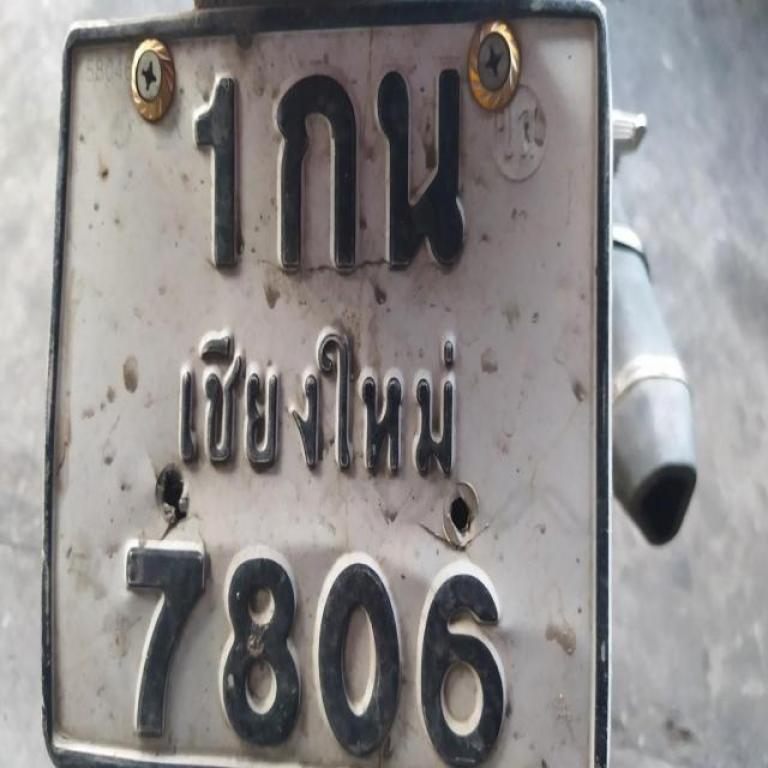license plate: (29, 8, 618, 768)
